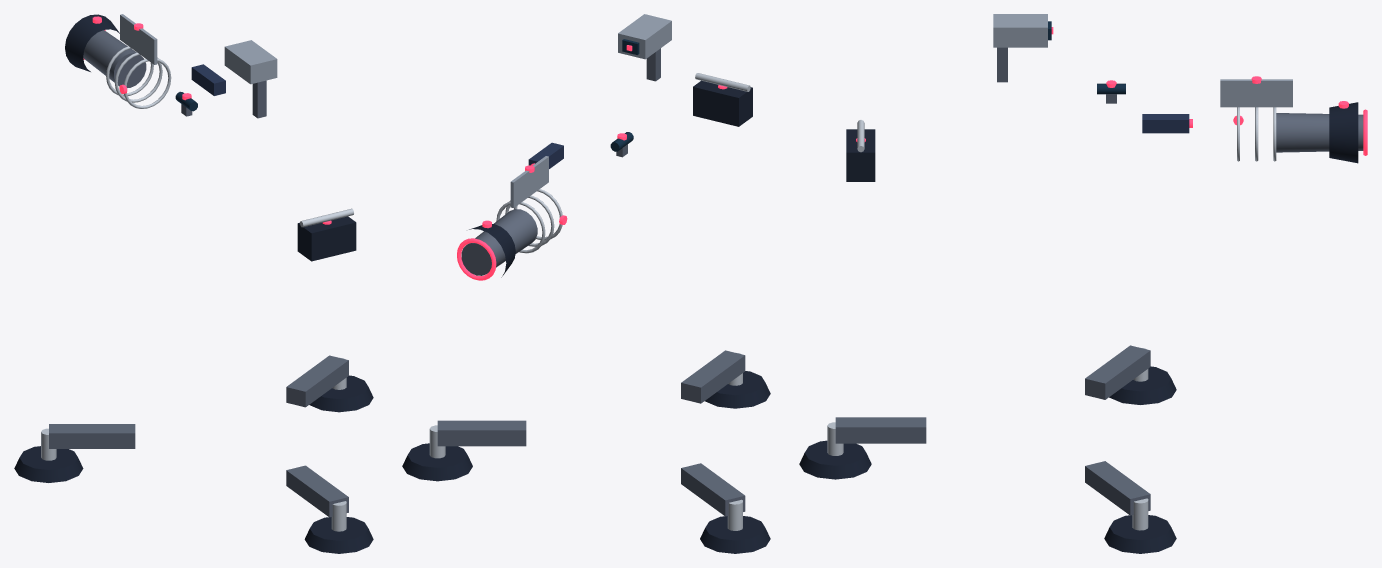
File: tower_filament_optics_s10.glb
3 renders of one model, left to right at view 1: azimuth 30°, elevation 25°; view 2: azimuth 150°, elevation 25°; view 3: azimuth 270°, elevation 25°, orthographic. The views are drawn at different scales.
Parts seen in each view (by area): view 1: filament_outrigger_arm0, filament_counterweight, filament_tube_ext, filament_outrigger_pad2, filament_outrigger_arm1, filament_outrigger_pad0, filament_optics_head, filament_outrigger_arm2, filament_outrigger_pad1, filament_lens_hood, filament_stab_fin, filament_rangefinder (+4 smaller); view 2: filament_outrigger_arm1, filament_tube_ext, filament_counterweight, filament_outrigger_arm2, filament_outrigger_pad0, filament_outrigger_pad1, filament_outrigger_arm0, filament_optics_head, filament_outrigger_pad2, filament_stab_fin, filament_lens_hood, filament_tube_ext_ring (+2 smaller); view 3: filament_outrigger_arm2, filament_tube_ext, filament_stab_fin, filament_outrigger_pad1, filament_outrigger_arm0, filament_outrigger_pad2, filament_optics_head, filament_outrigger_arm1, filament_lens_hood, filament_outrigger_pad0, filament_counterweight, filament_rangefinder.
Boxes of the visible parts, x1,y1,x2,y2 form: filament_outrigger_arm0: [49, 424, 135, 448]; filament_counterweight: [297, 216, 356, 261]; filament_tube_ext: [83, 30, 146, 88]; filament_outrigger_pad2: [304, 517, 373, 553]; filament_outrigger_arm1: [286, 355, 348, 407]; filament_outrigger_pad0: [14, 446, 83, 482]; filament_optics_head: [224, 40, 277, 84]; filament_outrigger_arm2: [286, 465, 348, 517]; filament_outrigger_pad1: [309, 375, 373, 412]; filament_lens_hood: [65, 14, 119, 71]; filament_stab_fin: [120, 14, 157, 64]; filament_rangefinder: [191, 64, 225, 95]; filament_outrigger_arm1: [437, 420, 526, 446]; filament_tube_ext: [461, 209, 537, 275]; filament_counterweight: [693, 80, 752, 126]; filament_outrigger_arm2: [681, 350, 745, 403]; filament_outrigger_pad0: [700, 516, 770, 553]; filament_outrigger_pad1: [402, 443, 472, 481]; filament_outrigger_arm0: [681, 463, 745, 516]; filament_optics_head: [618, 14, 671, 59]; filament_outrigger_pad2: [705, 371, 770, 408]; filament_stab_fin: [510, 156, 548, 207]; filament_lens_hood: [469, 224, 515, 277]; filament_tube_ext_ring: [457, 238, 496, 280]; filament_outrigger_arm2: [835, 417, 926, 443]; filament_tube_ext: [1276, 113, 1363, 152]; filament_stab_fin: [1220, 79, 1292, 107]; filament_outrigger_pad1: [1104, 515, 1176, 553]; filament_outrigger_arm0: [1085, 345, 1150, 399]; filament_outrigger_pad2: [799, 440, 871, 479]; filament_optics_head: [993, 14, 1047, 47]; filament_outrigger_arm1: [1085, 461, 1150, 515]; filament_lens_hood: [1329, 102, 1358, 163]; filament_outrigger_pad0: [1109, 366, 1176, 404]; filament_counterweight: [846, 129, 875, 181]; filament_rangefinder: [1142, 114, 1189, 133].
Size of the model in its own units: 2.34 by 2.69 by 3.13.
